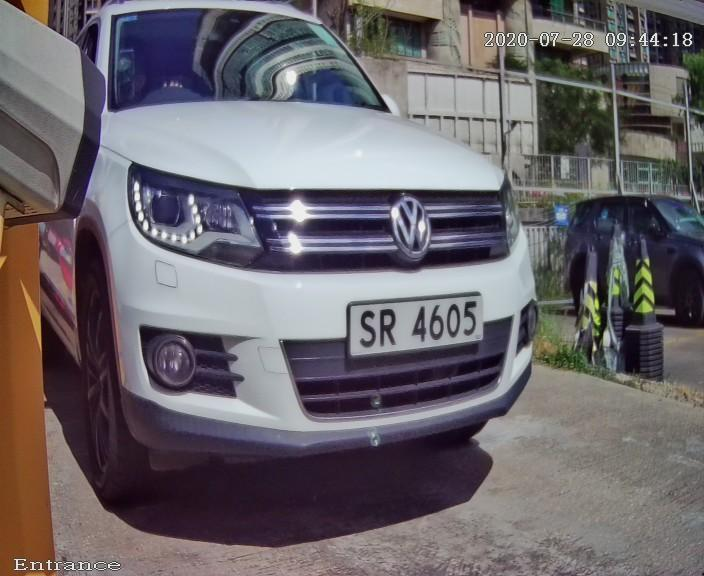privatecar: (32, 11, 598, 530)
